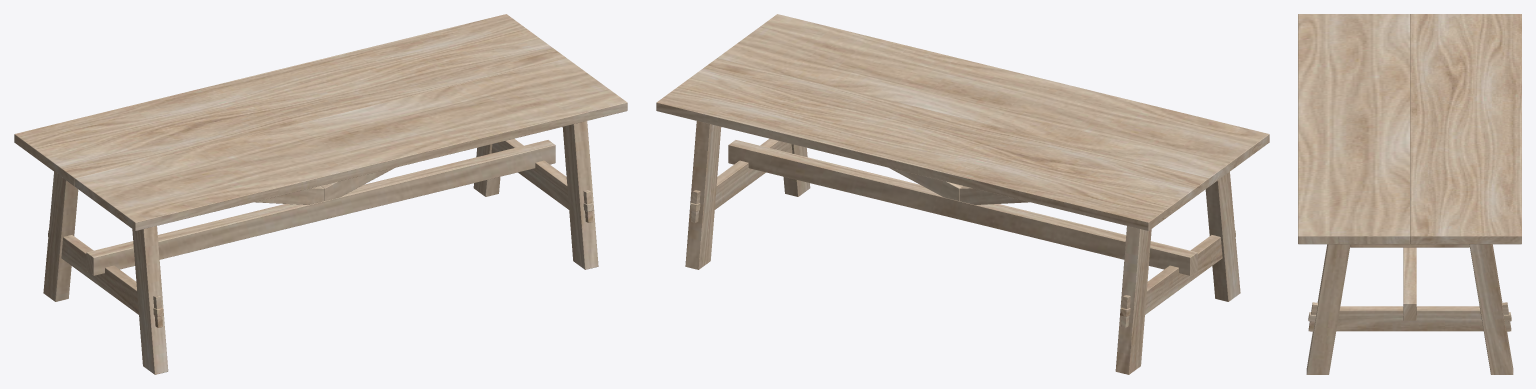
Rendered from table.obj.
3 views of the same model, side by side, from view 1: azimuth 30°, elevation 25°; view 2: azimuth 150°, elevation 25°; view 3: azimuth 270°, elevation 25° (orthographic). The views are drawn at different scales.
Parts seen in each view (by area): view 1: Table_Untitled.010, Table.016_Untitled.027, Table.003_Untitled.005, Table.006_Untitled.014, Table.015_Untitled.026, Table.009_Untitled.017, Table.008_Untitled.016, Table.014_Untitled.024, Table.002_Untitled.002, Table.001_Untitled.000, Table.012_Untitled.020; view 2: Table.016_Untitled.027, Table_Untitled.010, Table.003_Untitled.005, Table.009_Untitled.017, Table.012_Untitled.020, Table.006_Untitled.014, Table.008_Untitled.016, Table.014_Untitled.024, Table.002_Untitled.002, Table.001_Untitled.000, Table.015_Untitled.026; view 3: Table_Untitled.010, Table.016_Untitled.027, Table.014_Untitled.024, Table.015_Untitled.026, Table.012_Untitled.020, Table.003_Untitled.005, Table.010_Untitled.018.
Boxes of the visible parts, left/top/right/bottom form: Table_Untitled.010: left=75, top=58, right=627, bottom=230; Table.016_Untitled.027: left=14, top=14, right=566, bottom=186; Table.003_Untitled.005: left=86, top=140, right=555, bottom=275; Table.006_Untitled.014: left=132, top=226, right=168, bottom=374; Table.015_Untitled.026: left=562, top=121, right=598, bottom=269; Table.009_Untitled.017: left=43, top=172, right=78, bottom=301; Table.008_Untitled.016: left=61, top=235, right=162, bottom=327; Table.014_Untitled.024: left=491, top=138, right=593, bottom=222; Table.002_Untitled.002: left=321, top=168, right=394, bottom=200; Table.001_Untitled.000: left=254, top=186, right=324, bottom=204; Table.012_Untitled.020: left=473, top=144, right=500, bottom=196; Table.016_Untitled.027: left=656, top=58, right=1208, bottom=230; Table_Untitled.010: left=717, top=14, right=1269, bottom=186; Table.003_Untitled.005: left=728, top=140, right=1197, bottom=275; Table.009_Untitled.017: left=1115, top=226, right=1151, bottom=374; Table.012_Untitled.020: left=685, top=121, right=721, bottom=269; Table.006_Untitled.014: left=1205, top=172, right=1240, bottom=301; Table.008_Untitled.016: left=1121, top=235, right=1222, bottom=327; Table.014_Untitled.024: left=690, top=138, right=792, bottom=222; Table.002_Untitled.002: left=889, top=168, right=962, bottom=200; Table.001_Untitled.000: left=959, top=186, right=1029, bottom=204; Table.015_Untitled.026: left=783, top=144, right=810, bottom=196; Table_Untitled.010: left=1298, top=14, right=1409, bottom=244; Table.016_Untitled.027: left=1410, top=14, right=1521, bottom=244; Table.014_Untitled.024: left=1308, top=302, right=1511, bottom=331; Table.015_Untitled.026: left=1306, top=244, right=1350, bottom=374; Table.012_Untitled.020: left=1469, top=244, right=1513, bottom=374; Table.003_Untitled.005: left=1403, top=247, right=1416, bottom=320; Table.010_Untitled.018: left=1350, top=244, right=1469, bottom=247.
Bounding box in the file's own units: 235 × 73.87 × 100.
Materials: 2 (2 with a texture image).
